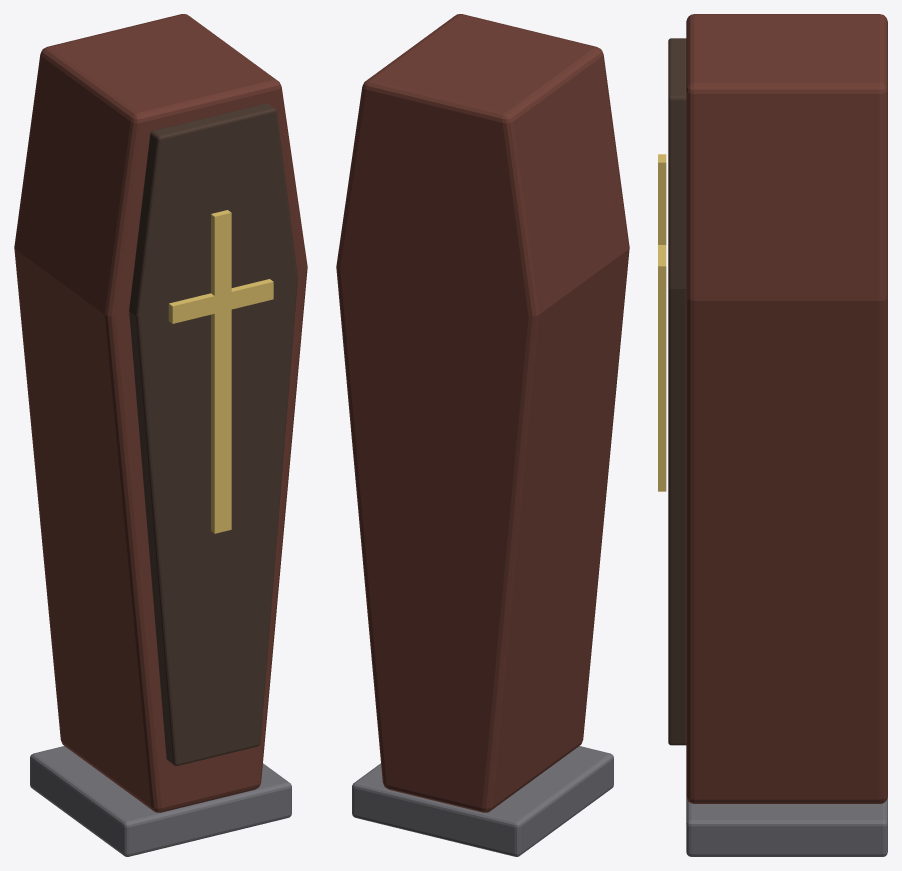
File: coffin_upright.glb
The picture shows the model from 3 angles, left to right: view 1: azimuth 30°, elevation 25°; view 2: azimuth 150°, elevation 25°; view 3: azimuth 270°, elevation 25°; orthographic projection. The views are drawn at different scales.
Parts seen in each view (by area): view 1: GD_coffin_upright__m0, GD_coffin_upright__m1, GD_coffin_upright__m3, GD_coffin_upright__m2; view 2: GD_coffin_upright__m0, GD_coffin_upright__m3; view 3: GD_coffin_upright__m0, GD_coffin_upright__m1, GD_coffin_upright__m3, GD_coffin_upright__m2.
Boxes of the visible parts, x1,y1,x2,y2 form: GD_coffin_upright__m0: [14, 14, 307, 812]; GD_coffin_upright__m1: [129, 103, 297, 765]; GD_coffin_upright__m3: [30, 746, 291, 856]; GD_coffin_upright__m2: [168, 210, 273, 533]; GD_coffin_upright__m0: [336, 14, 629, 812]; GD_coffin_upright__m3: [352, 746, 613, 856]; GD_coffin_upright__m0: [686, 14, 887, 803]; GD_coffin_upright__m1: [668, 38, 686, 745]; GD_coffin_upright__m3: [686, 796, 887, 856]; GD_coffin_upright__m2: [658, 154, 666, 491].
Bounding box in the file's own units: 0.6 × 2.1 × 0.57.
